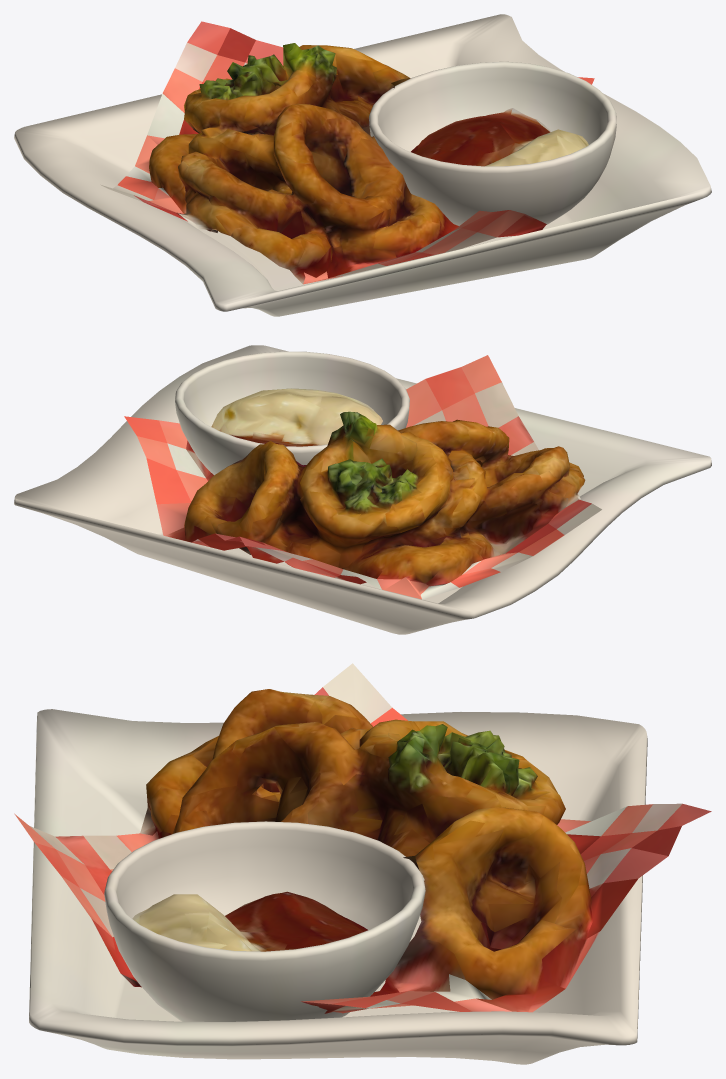
The picture shows the model from 3 angles, top to bottom: view 1: azimuth 30°, elevation 25°; view 2: azimuth 150°, elevation 25°; view 3: azimuth 270°, elevation 25°; orthographic projection. The views are drawn at different scales.
Visible parts, largest first — view 1: OnionFries; view 2: OnionFries; view 3: OnionFries.
Boxes of the visible parts, box(x1,y1,x2,y2) form: OnionFries: box(14, 14, 711, 316); OnionFries: box(14, 345, 711, 634); OnionFries: box(14, 663, 711, 1064).
Size of the model in its own units: 0.0651 by 0.0195 by 0.0583.
Materials: 1 (1 with a texture image).
